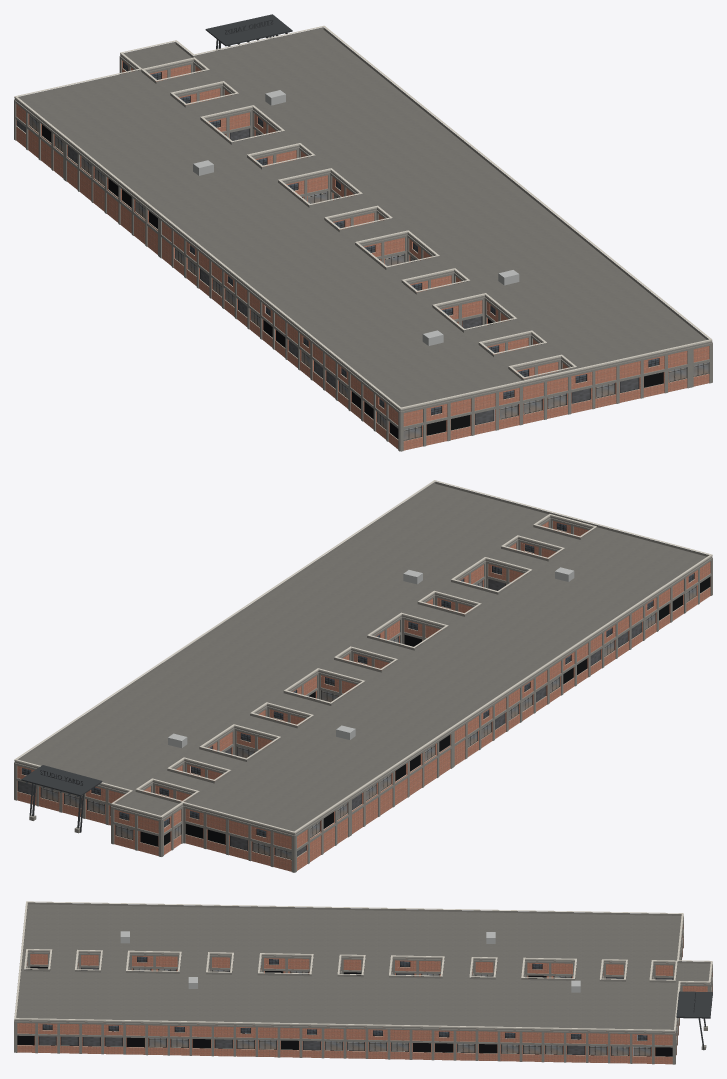
Rendered from studioplex.glb.
The picture shows the model from 3 angles, top to bottom: view 1: azimuth 30°, elevation 25°; view 2: azimuth 150°, elevation 25°; view 3: azimuth 270°, elevation 25°; orthographic projection. The views are drawn at different scales.
Parts seen in each view (by area): view 1: studioplex_lod0; view 2: studioplex_lod0; view 3: studioplex_lod0.
Part boxes in pixels (x1=…): studioplex_lod0: x1=14, y1=14, x2=712, y2=451; studioplex_lod0: x1=14, y1=480, x2=712, y2=872; studioplex_lod0: x1=14, y1=901, x2=712, y2=1064.
Size of what is drawn, in the model's own units: 72.11 by 10.28 by 164.
8 materials, 6 textured.
